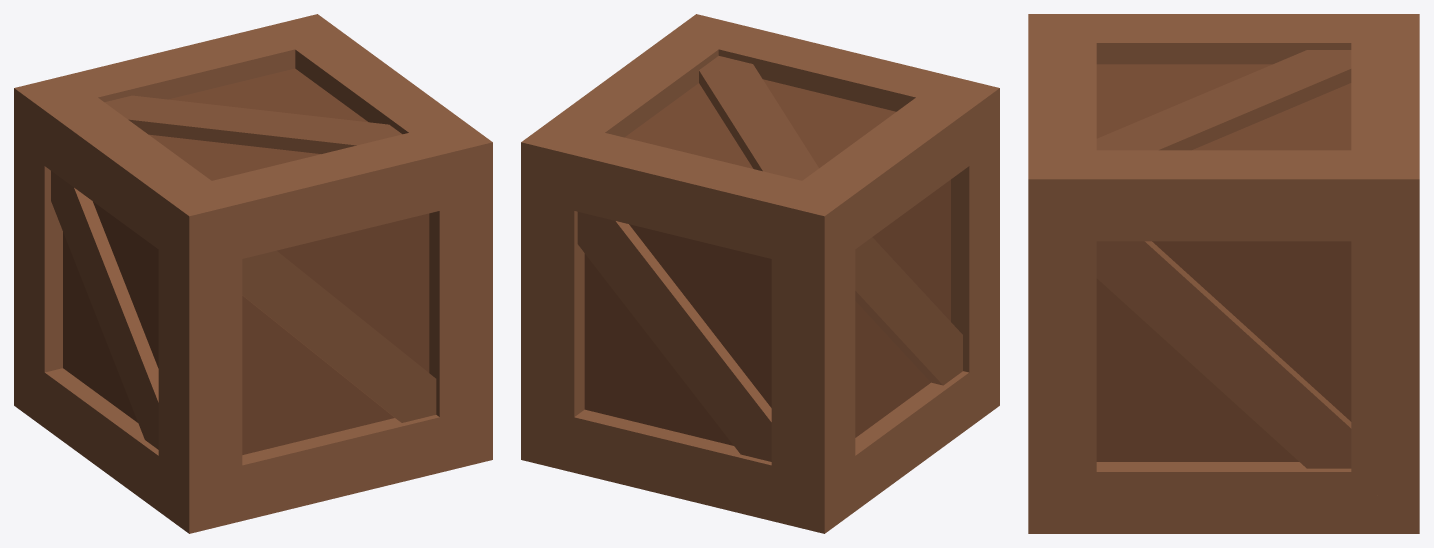
The model's file is Destructible-PreShattered.fbx.
3 views of the same model, side by side, from view 1: azimuth 30°, elevation 25°; view 2: azimuth 150°, elevation 25°; view 3: azimuth 270°, elevation 25° (orthographic). The views are drawn at different scales.
Parts seen in each view (by area): view 1: FramePart.004, FramePart.001, FramePart.006, FramePart.011, FramePart, Bar.002, FramePart.005, FramePart.002, FramePart.007, Bar.005, FramePart.003, Bar.001 (+12 smaller); view 2: FramePart.005, FramePart.002, FramePart.010, FramePart.009, FramePart, Bar, FramePart.004, FramePart.001, FramePart.007, FramePart.003, Bar.005, Bar.001 (+12 smaller); view 3: FramePart.003, FramePart.008, FramePart.006, FramePart.010, Bar.004, FramePart, Bar.001, Inner.007, Inner.008, FramePart.001, FramePart.002, Inner.009 (+4 smaller).
Part boxes in pixels (x1,y1,x2,y2): FramePart.004: (158,216,242,533); FramePart.001: (189,133,492,258); FramePart.006: (429,142,492,459); FramePart.011: (189,415,492,533); FramePart: (14,88,211,249); Bar.002: (242,250,436,422); FramePart.005: (14,88,62,405); FramePart.002: (15,14,317,102); FramePart.007: (14,368,188,533); Bar.005: (51,171,158,449); FramePart.003: (295,14,492,142); Bar.001: (105,95,401,153); FramePart.005: (771,216,855,533); FramePart.002: (521,133,824,258); FramePart.010: (521,142,584,459); FramePart.009: (521,409,824,533); FramePart: (802,88,999,249); Bar: (577,212,771,461); FramePart.004: (951,88,999,405); FramePart.001: (696,14,998,111); FramePart.007: (825,371,999,533); FramePart.003: (521,14,718,142); Bar.005: (855,237,962,385); Bar.001: (699,56,818,180); FramePart.003: (1028,150,1419,241); FramePart.008: (1029,462,1418,533); FramePart.006: (1028,179,1096,533); FramePart.010: (1351,179,1419,533); Bar.004: (1096,241,1351,468); FramePart: (1029,14,1418,64); Bar.001: (1096,50,1351,150); Inner.007: (1096,279,1351,346); Inner.008: (1096,346,1351,413); FramePart.001: (1028,14,1096,178); FramePart.002: (1351,14,1419,178); Inner.009: (1096,414,1351,461).
Size of the model in its own units: 200 by 200 by 200.
